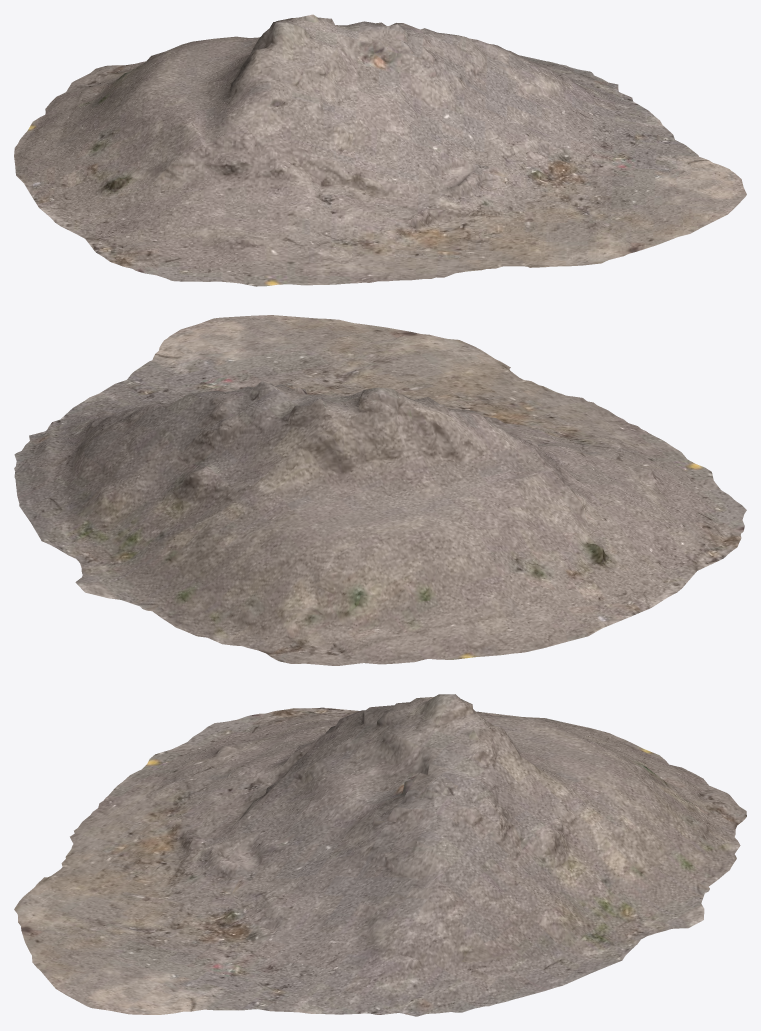
Rendered from sandpile.glb.
3 views of the same model, one above another, from view 1: azimuth 30°, elevation 25°; view 2: azimuth 150°, elevation 25°; view 3: azimuth 270°, elevation 25° (orthographic). The views are drawn at different scales.
Parts seen in each view (by area): view 1: merged; view 2: merged; view 3: merged.
Part boxes in pixels (bbox=[...]): merged: bbox=[14, 14, 746, 286]; merged: bbox=[14, 315, 746, 665]; merged: bbox=[14, 694, 746, 1016].
Bounding box in the file's own units: 5.93 × 1.3 × 5.94.
Materials: 1 (1 with a texture image).
